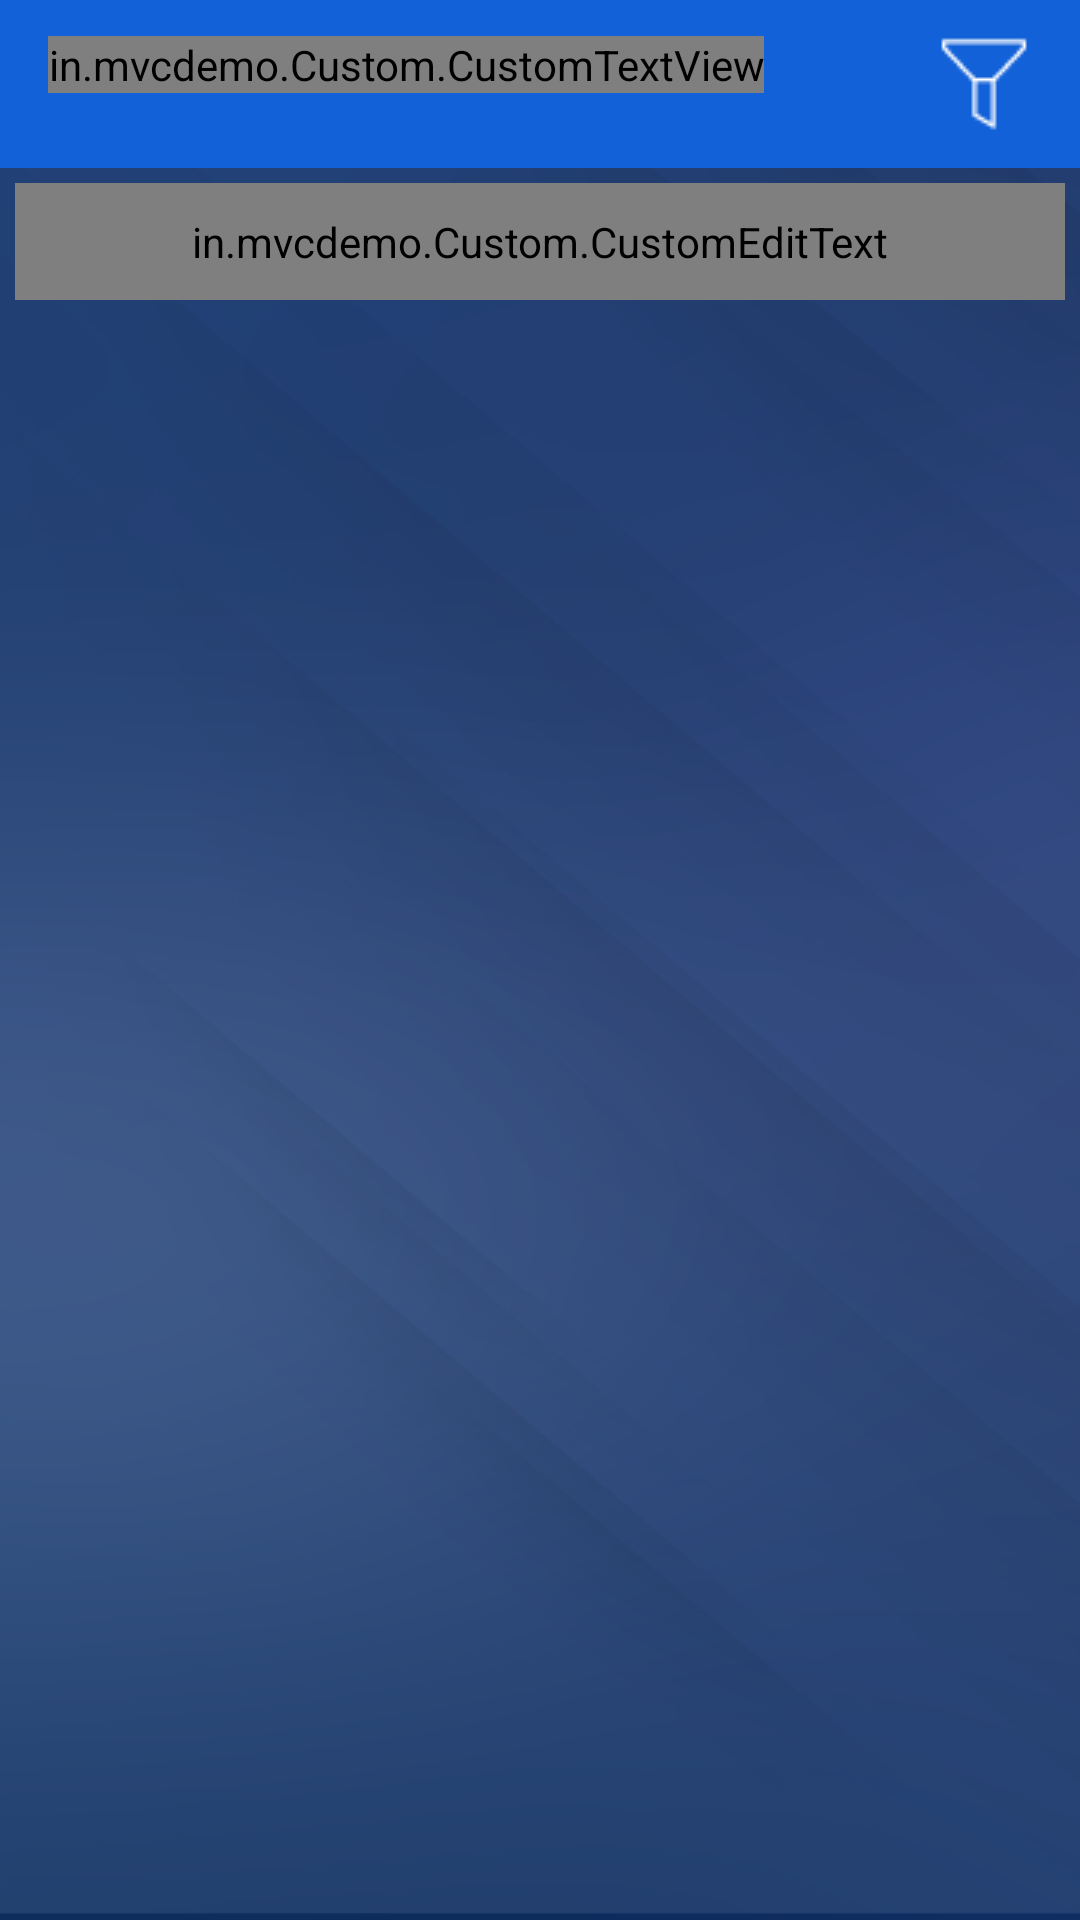

Icons on this 1080 × 1920 Android screen, each with its box as {"x1": x1, "y1": y1, "x2": x2, "y2": y2}:
filter: {"x1": 941, "y1": 38, "x2": 1027, "y2": 130}
